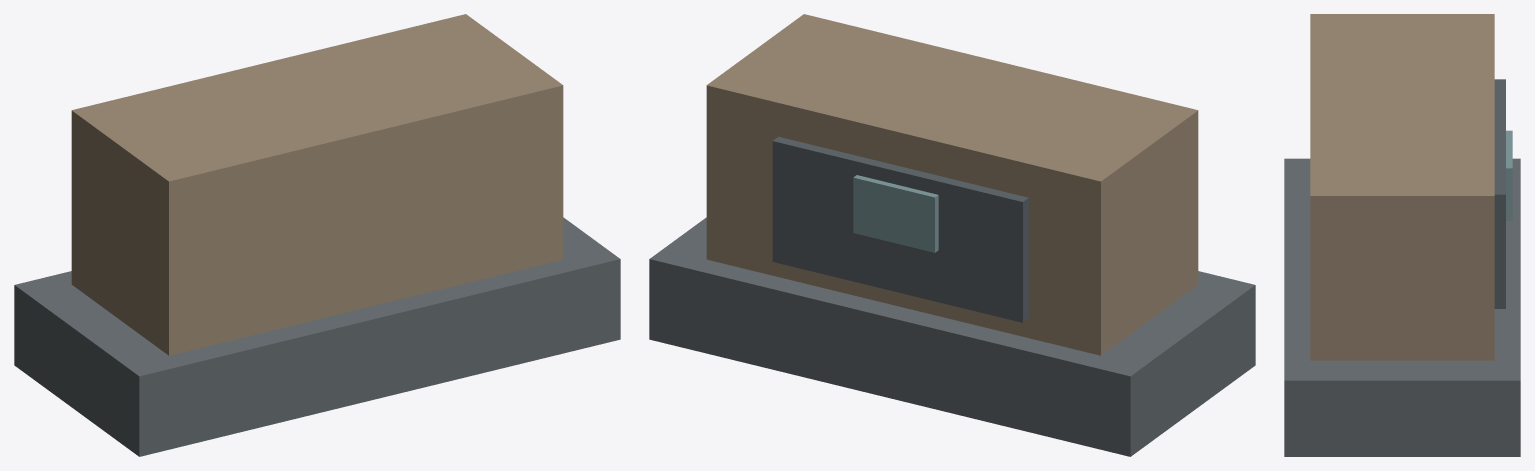
Rendered from iz3_production_carpentry_02.glb.
The picture shows the model from 3 angles, left to right: view 1: azimuth 30°, elevation 25°; view 2: azimuth 150°, elevation 25°; view 3: azimuth 270°, elevation 25°; orthographic projection. The views are drawn at different scales.
Visible parts, largest first — view 1: cabinet, base; view 2: cabinet, base, panel, display; view 3: cabinet, base, panel, display.
Boxes of the visible parts, left/top/right/bottom form: cabinet: left=71, top=14, right=563, bottom=355; base: left=14, top=217, right=620, bottom=456; cabinet: left=706, top=14, right=1198, bottom=355; base: left=649, top=217, right=1255, bottom=456; panel: left=772, top=136, right=1028, bottom=322; display: left=853, top=175, right=938, bottom=252; cabinet: left=1310, top=14, right=1494, bottom=360; base: left=1284, top=158, right=1520, bottom=456; panel: left=1494, top=79, right=1505, bottom=308; display: left=1506, top=130, right=1512, bottom=220.
Size of the model in its own units: 2 by 1.01 by 0.9.
